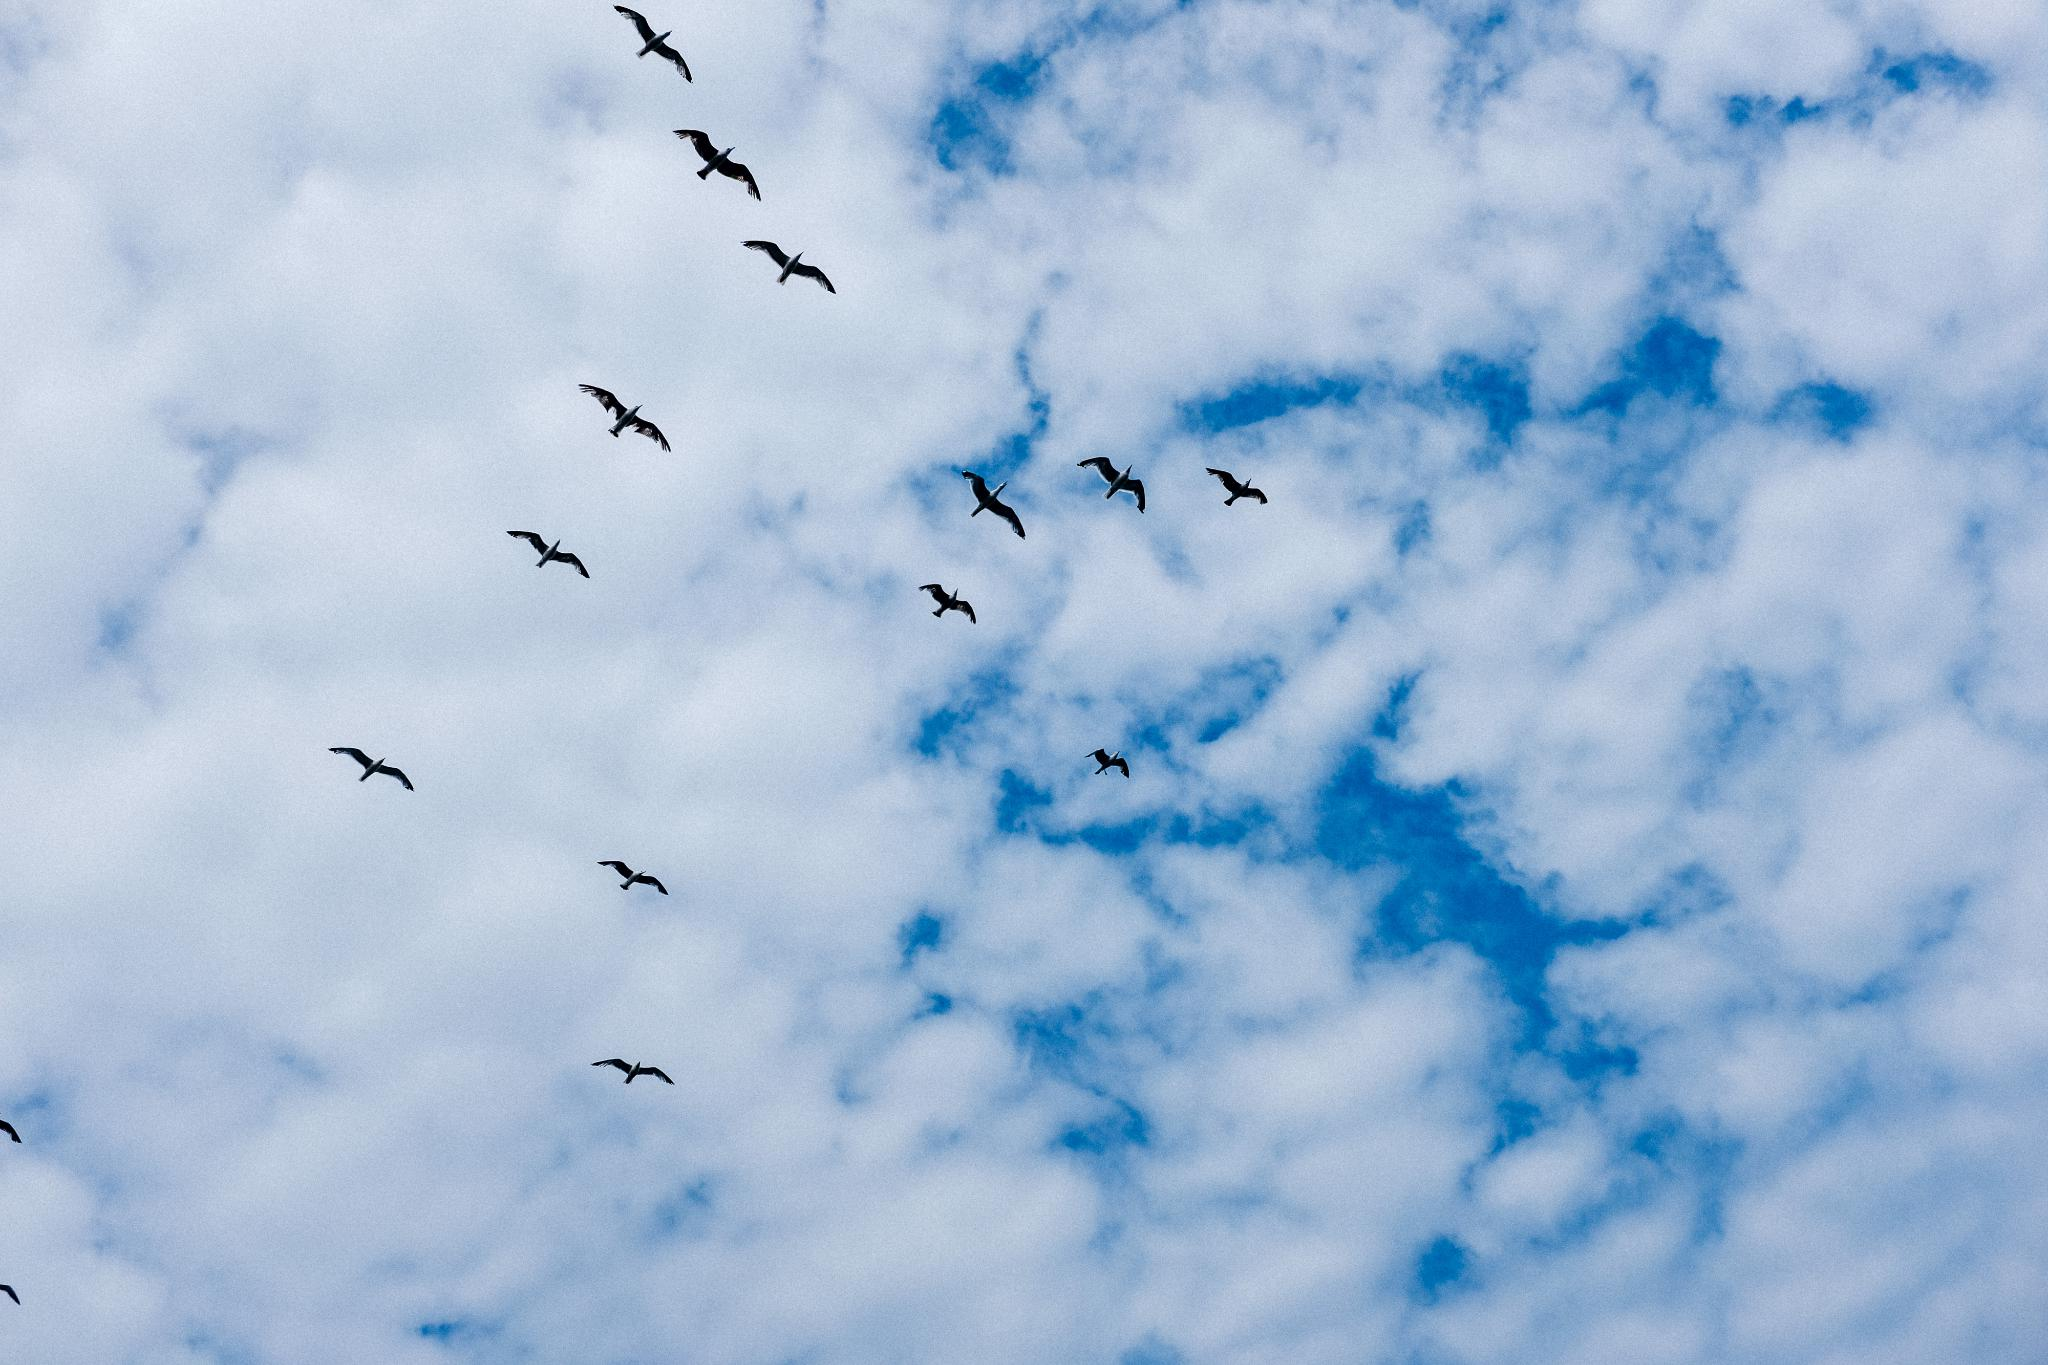bird: (306, 728, 449, 809), (571, 360, 675, 468), (728, 222, 853, 311), (594, 5, 708, 97), (655, 117, 772, 206), (493, 513, 612, 596), (583, 835, 697, 914), (941, 460, 1035, 547), (1183, 452, 1296, 523), (1055, 448, 1163, 518), (886, 568, 993, 635), (576, 1045, 694, 1100), (1075, 737, 1147, 789)
